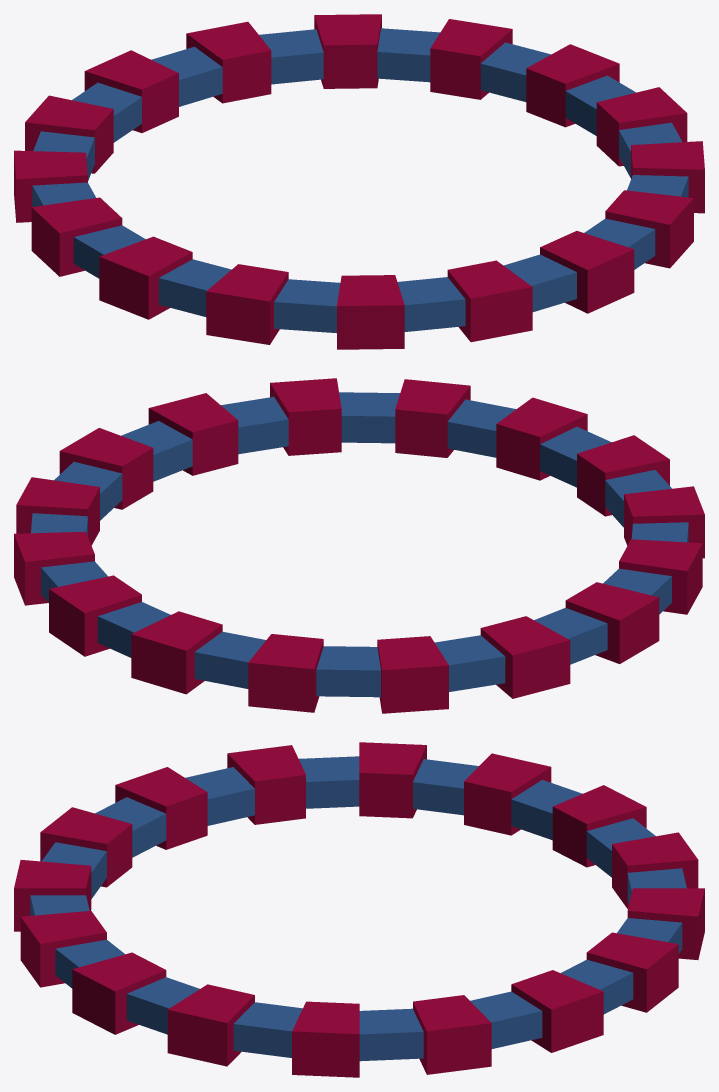
File: Portal.fbx
3 renders of one model, top to bottom at view 1: azimuth 30°, elevation 25°; view 2: azimuth 150°, elevation 25°; view 3: azimuth 270°, elevation 25°, orthographic.
Parts seen in each view (by area): view 1: Circle; view 2: Circle; view 3: Circle.
Part boxes in pixels (x1,y1,x2,y2): Circle: (14, 14, 704, 349); Circle: (14, 378, 704, 713); Circle: (14, 742, 704, 1077).
Bounding box in the file's own units: 210 × 14.58 × 210.
